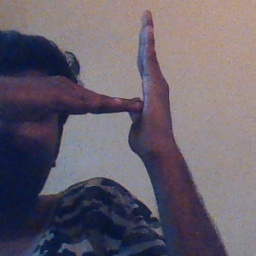Z: (82, 8, 180, 160)
